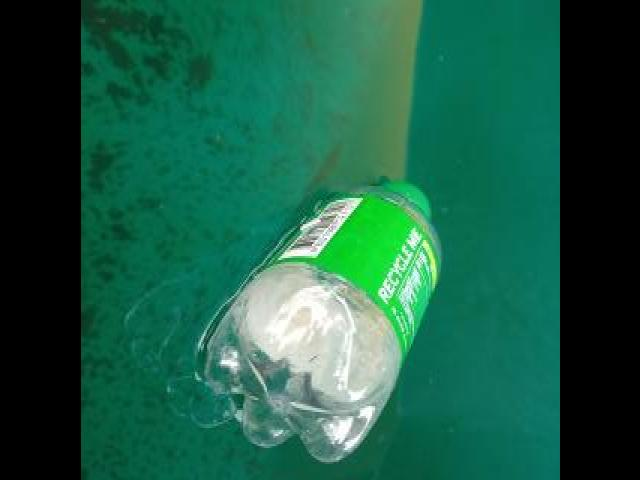Bottle: (198, 180, 446, 468)
